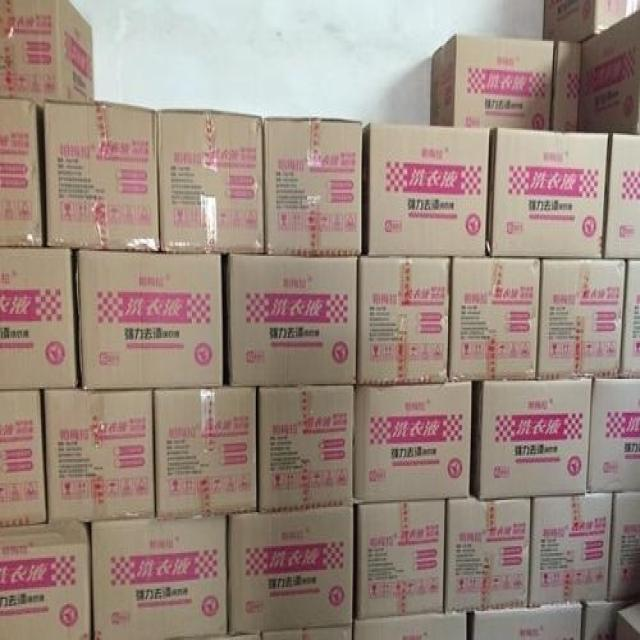box: (76, 251, 224, 389), (42, 99, 160, 251), (225, 254, 357, 386), (362, 123, 489, 258), (91, 515, 228, 638), (229, 503, 355, 633), (486, 128, 609, 258), (156, 109, 265, 253), (471, 377, 593, 500), (42, 389, 155, 521), (355, 382, 472, 503), (262, 114, 362, 254), (154, 387, 257, 517), (259, 386, 356, 512), (429, 36, 554, 130), (356, 258, 448, 384), (0, 247, 79, 393), (448, 258, 540, 382), (0, 521, 91, 640), (536, 259, 625, 379), (0, 0, 95, 106), (357, 500, 444, 614), (530, 492, 614, 604), (447, 498, 531, 609), (579, 12, 640, 133), (0, 94, 45, 246), (0, 391, 49, 526), (586, 379, 640, 493), (603, 133, 640, 261), (471, 602, 580, 640), (544, 0, 627, 44), (608, 493, 640, 601), (352, 611, 467, 640), (550, 41, 582, 131), (620, 261, 640, 381), (582, 601, 639, 640), (617, 602, 640, 638), (305, 626, 352, 640), (262, 628, 305, 640)
